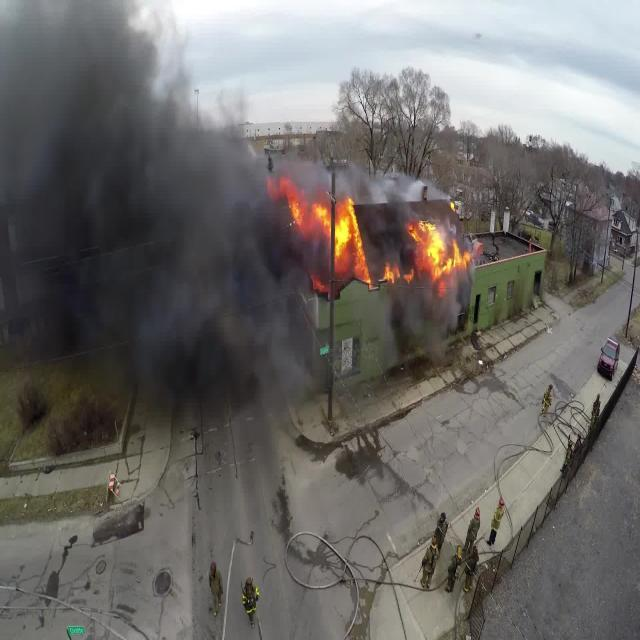Fire: (262, 156, 484, 336)
Smoke: (0, 6, 259, 437)
